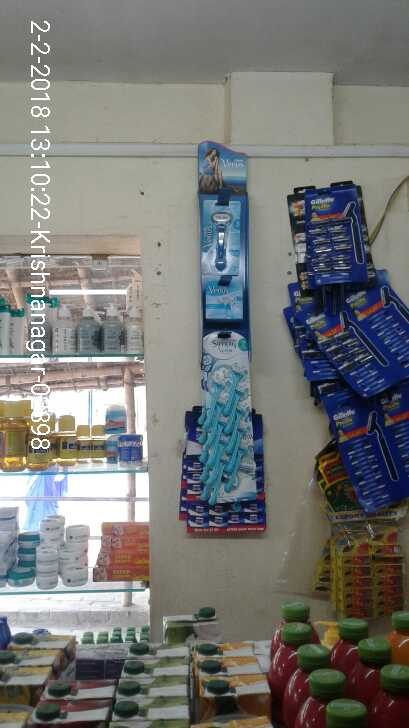beauty: (306, 298, 408, 400), (293, 185, 360, 288), (202, 196, 246, 275)
